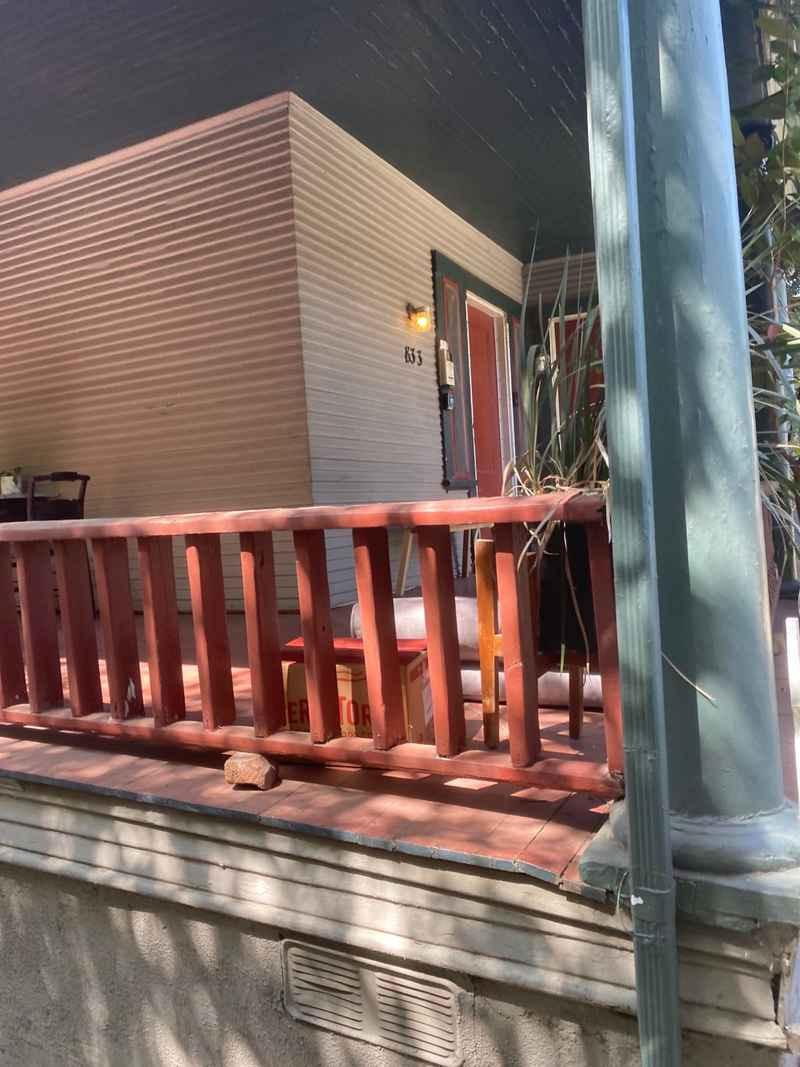package: (270, 634, 458, 772)
